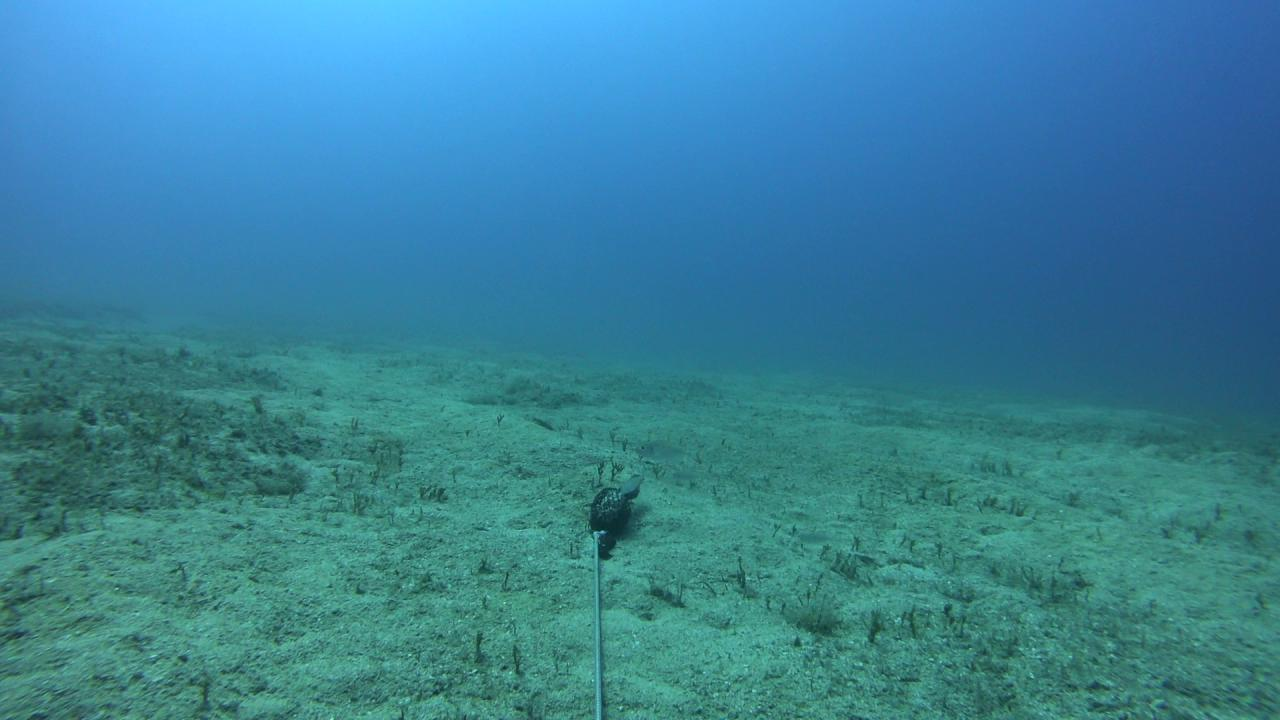pagellus: (632, 440, 704, 467)
